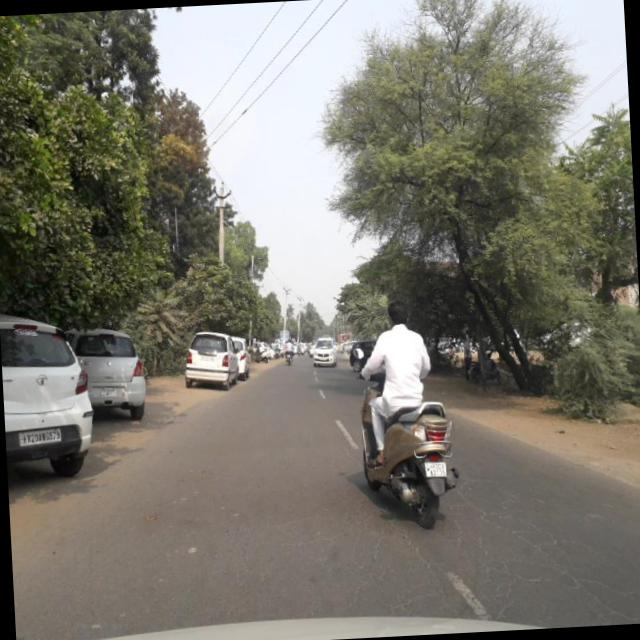crack: (458, 478, 618, 620), (303, 526, 461, 614)
